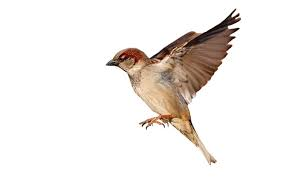hsparrow: (99, 7, 261, 168)
